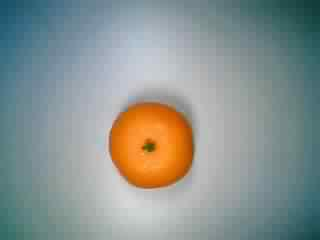orange: (105, 98, 200, 200)
